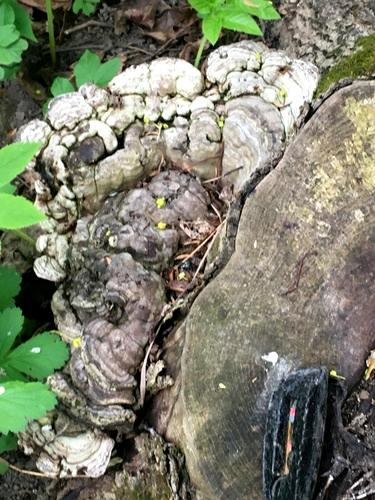Ganoderma - Fruit Body: (17, 34, 315, 479)
